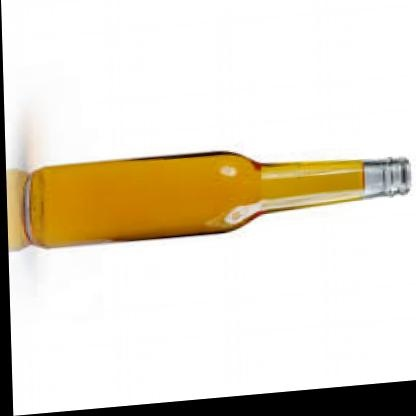trash: (7, 152, 410, 248)
